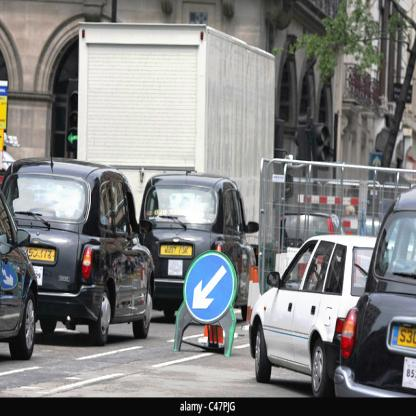Keep left: (182, 246, 241, 332)
